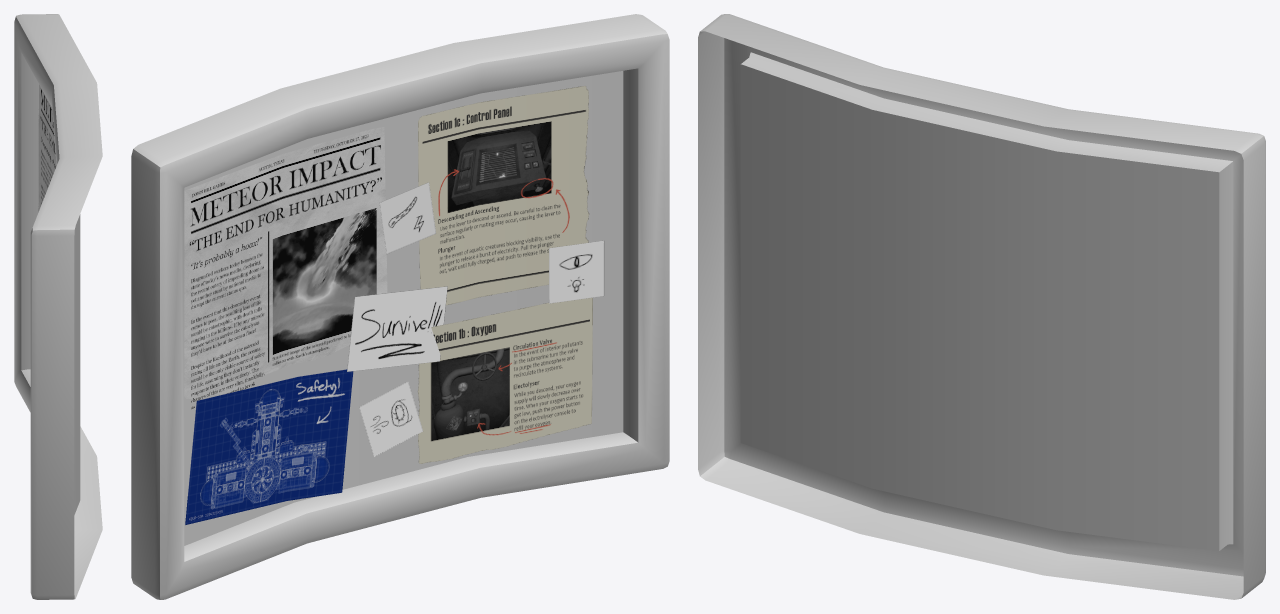
The model's file is TP_Submarine_Board.fbx.
3 renders of one model, left to right at view 1: azimuth 30°, elevation 25°; view 2: azimuth 150°, elevation 25°; view 3: azimuth 270°, elevation 25°, orthographic. The views are drawn at different scales.
Visible parts, largest first — view 1: TP_Submarine_Board, TP_Page01; view 2: TP_Submarine_Board, TP_Page01, TP_Page08, TP_Page07, TP_Page02, TP_Page03, TP_Page06, TP_Page04, TP_Page05; view 3: TP_Submarine_Board.
Boxes of the visible parts, x1=… form: TP_Submarine_Board: x1=14, y1=14, x2=102, y2=599; TP_Page01: x1=38, y1=84, x2=56, y2=212; TP_Submarine_Board: x1=131, y1=14, x2=669, y2=599; TP_Page01: x1=184, y1=127, x2=387, y2=408; TP_Page08: x1=418, y1=85, x2=589, y2=305; TP_Page07: x1=417, y1=297, x2=592, y2=463; TP_Page02: x1=185, y1=369, x2=353, y2=524; TP_Page03: x1=347, y1=286, x2=447, y2=371; TP_Page06: x1=549, y1=240, x2=604, y2=303; TP_Page04: x1=359, y1=381, x2=423, y2=457; TP_Page05: x1=379, y1=182, x2=435, y2=254; TP_Submarine_Board: x1=698, y1=14, x2=1265, y2=599.
Bounding box in the file's own units: 31.54 × 46.5 × 53.29.
